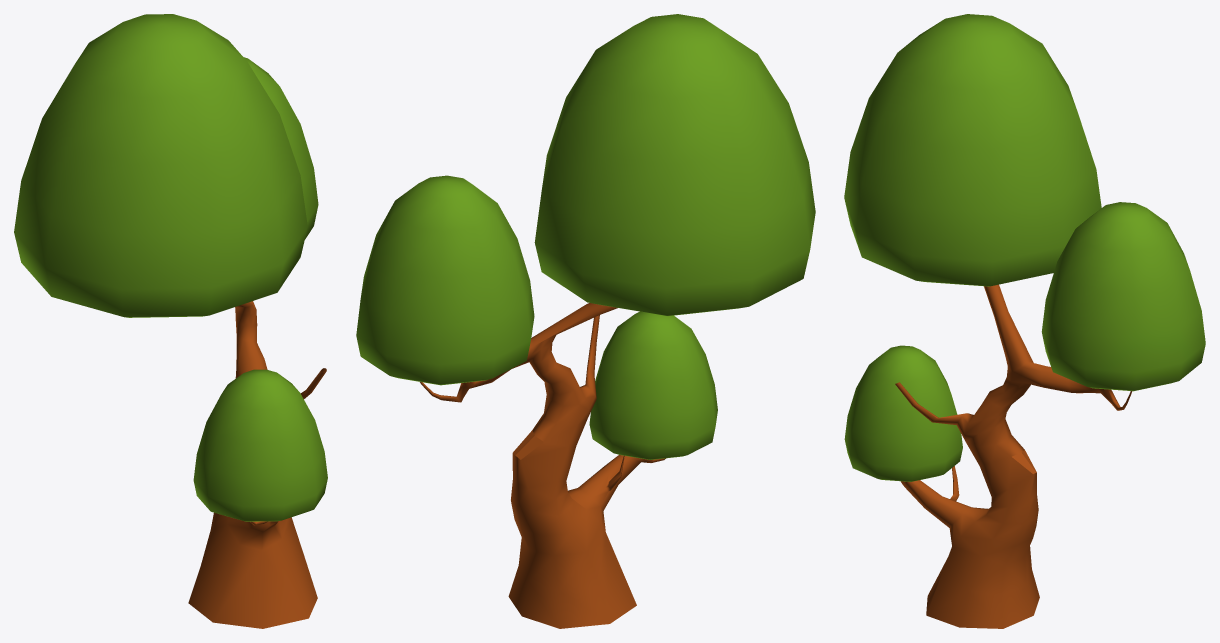
Rendered from SM_Tree_42.fbx.
3 renders of one model, left to right at view 1: azimuth 30°, elevation 25°; view 2: azimuth 150°, elevation 25°; view 3: azimuth 270°, elevation 25°, orthographic. The views are drawn at different scales.
Parts seen in each view (by area): view 1: SM_Tree_42; view 2: SM_Tree_42; view 3: SM_Tree_42.
Boxes of the visible parts, x1=… form: SM_Tree_42: x1=14, y1=14, x2=327, y2=628; SM_Tree_42: x1=356, y1=14, x2=815, y2=628; SM_Tree_42: x1=844, y1=14, x2=1205, y2=628.
Bounding box in the file's own units: 771 × 1255 × 764.
